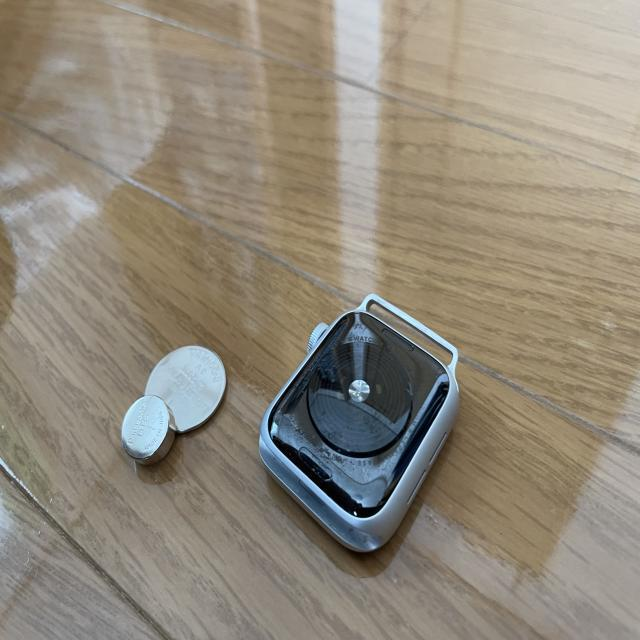COIN: (144, 346, 227, 432), (121, 396, 175, 464)
